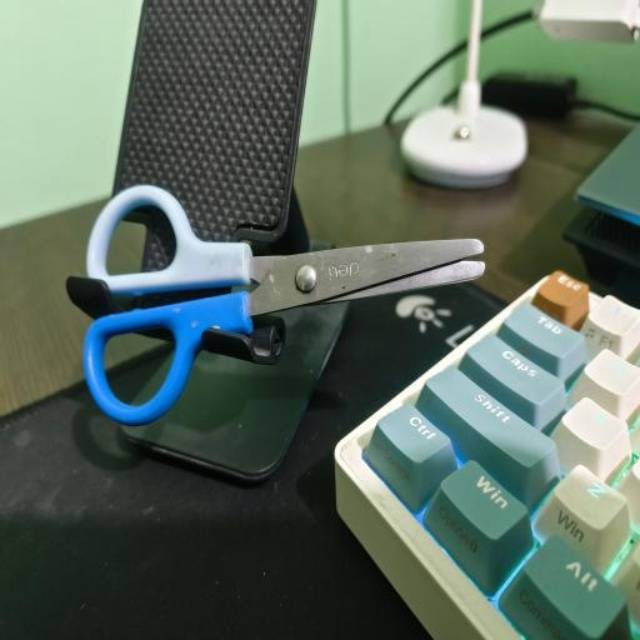scissor: (82, 174, 488, 423)
